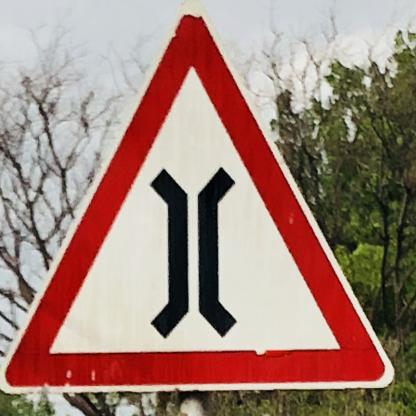Bridge Ahead: (0, 0, 395, 401)
